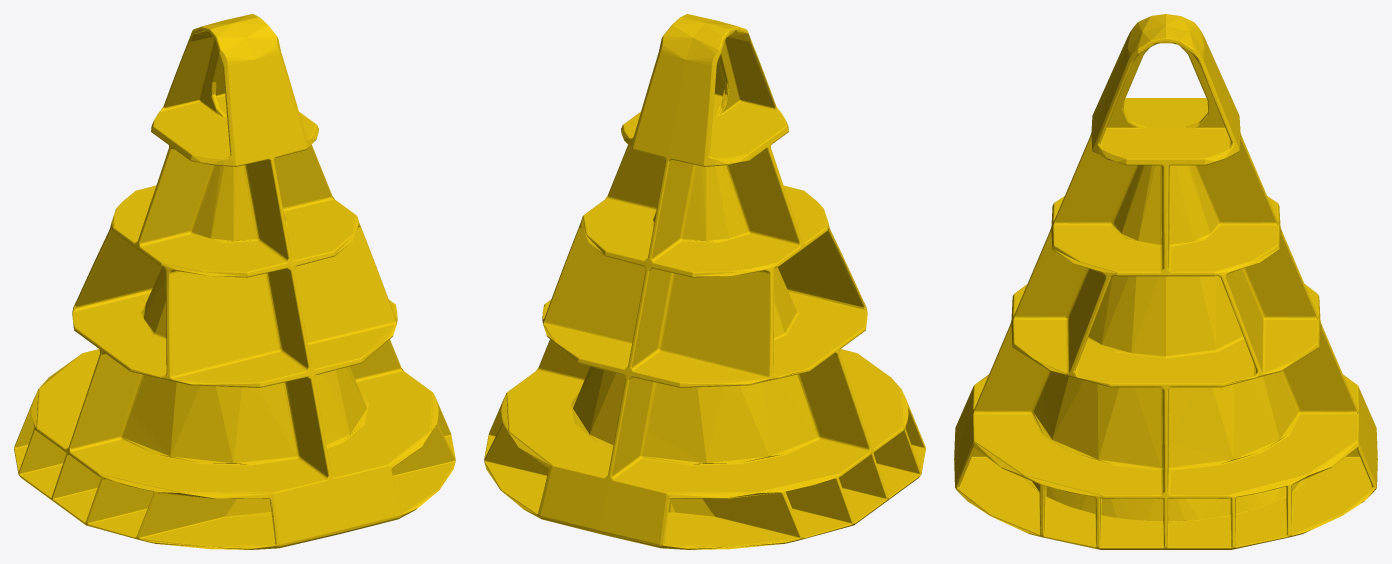
3 views of the same model, side by side, from view 1: azimuth 30°, elevation 25°; view 2: azimuth 150°, elevation 25°; view 3: azimuth 270°, elevation 25° (orthographic).
Parts seen in each view (by area): view 1: Cone; view 2: Cone; view 3: Cone.
Boxes of the visible parts, x1,y1,x2,y2 form: Cone: (14,14,455,549); Cone: (484,14,925,549); Cone: (954,14,1377,549).
Bounding box in the file's own units: 0.1524 × 0.1524 × 0.1732.
